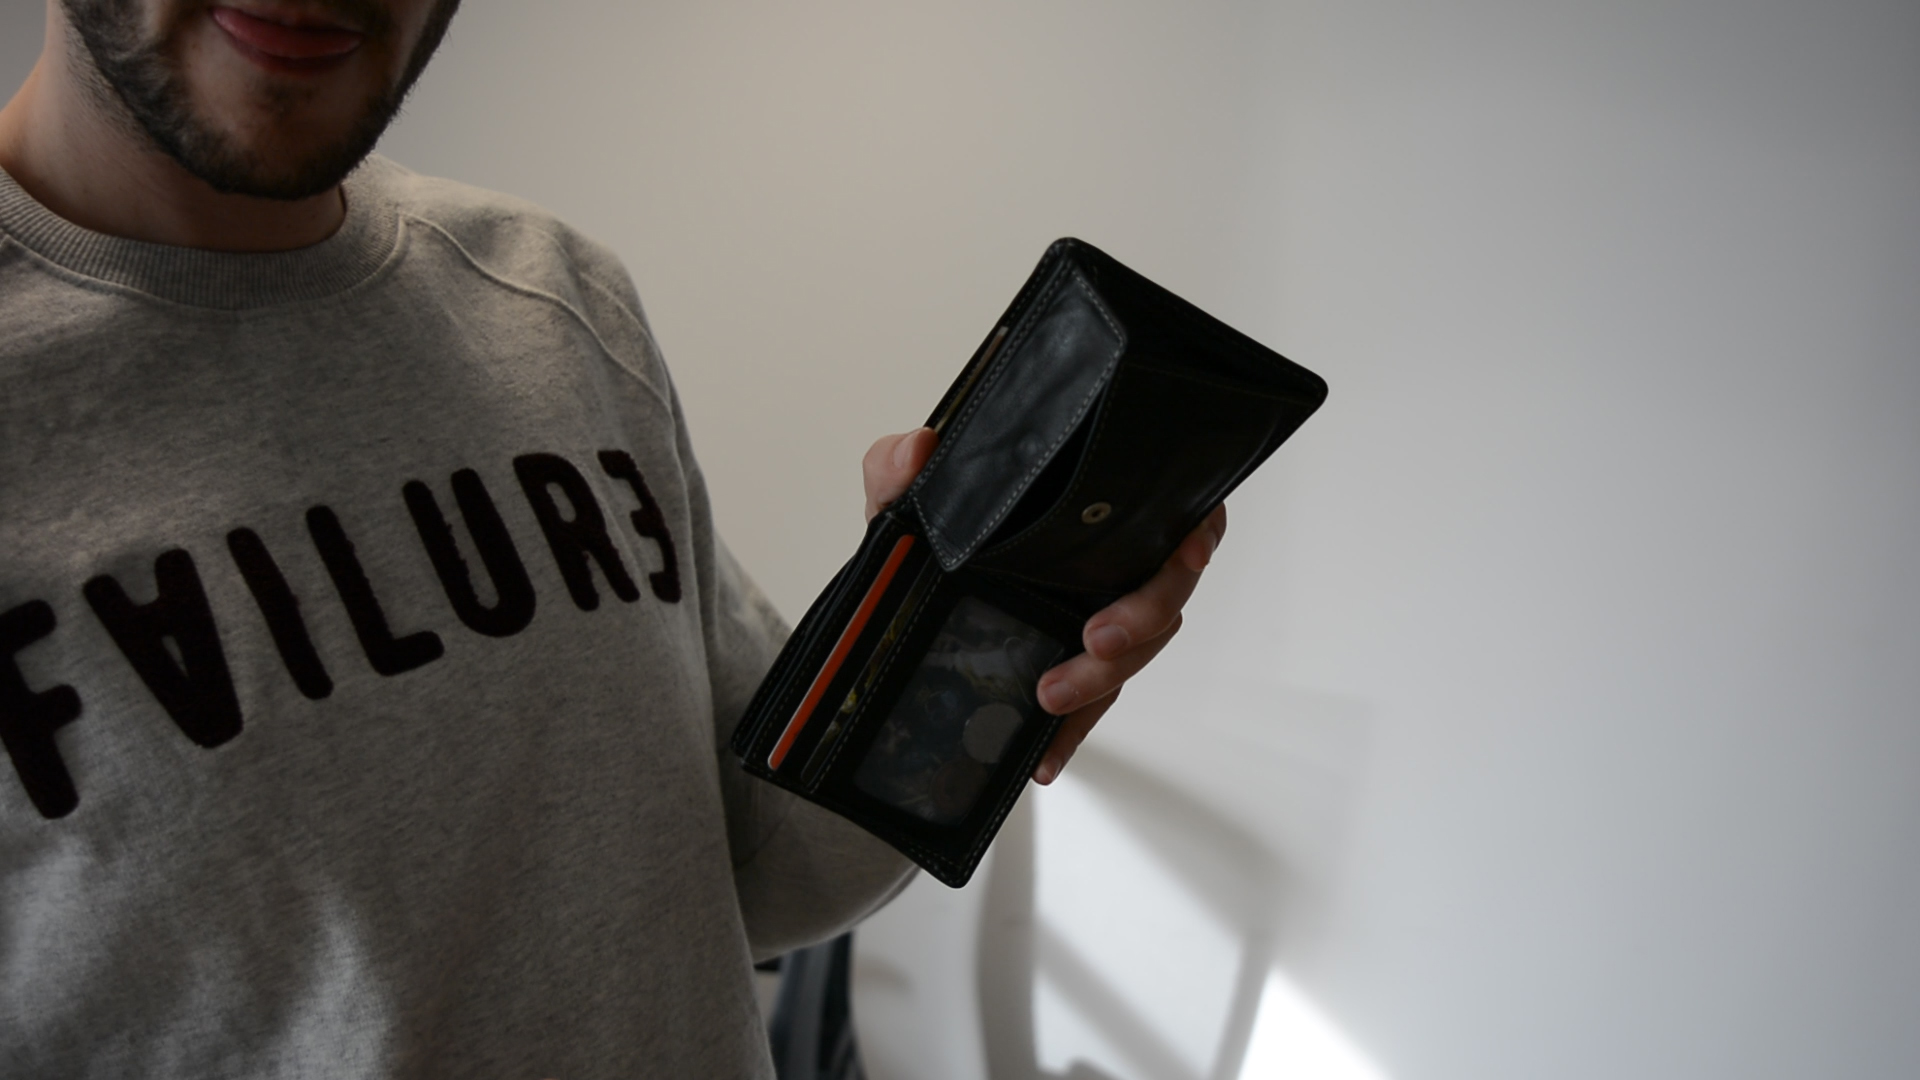monedero: (723, 233, 1331, 893)
